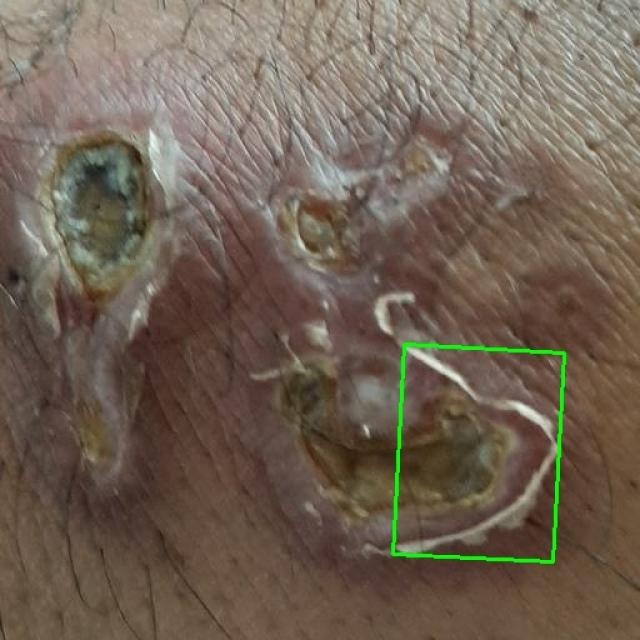Contact Dermatitis: (393, 345, 564, 562)
